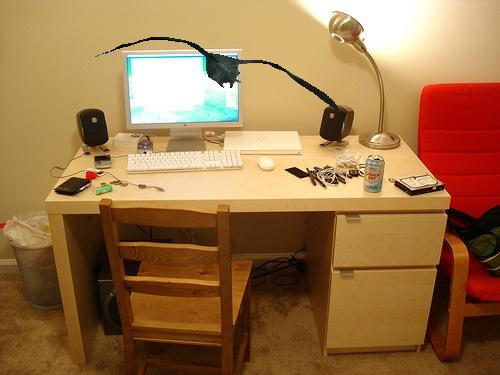tampered: (96, 38, 338, 110)
